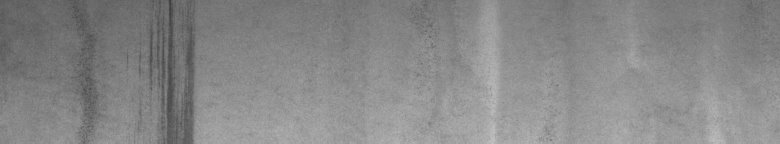ka: (77, 4, 200, 136)
